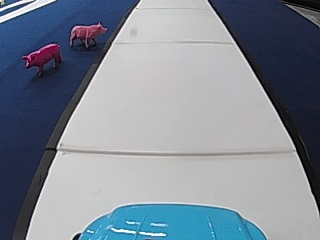pig: (20, 40, 63, 77), (66, 19, 106, 48)
